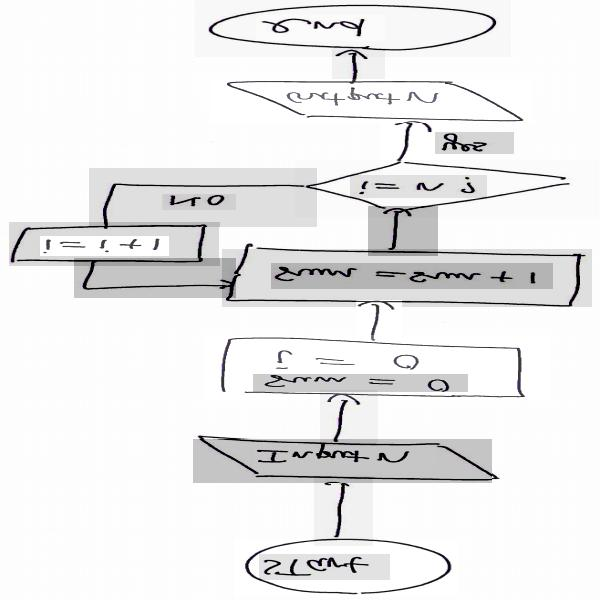arrow: (89, 168, 317, 227), (74, 258, 236, 298), (380, 114, 460, 170), (314, 475, 373, 546), (368, 206, 438, 256), (320, 390, 378, 445), (356, 300, 402, 340), (332, 48, 385, 79)
data: (212, 79, 533, 122), (195, 439, 492, 482)
decision: (295, 160, 599, 217)
process: (204, 335, 550, 401), (222, 249, 592, 307), (10, 222, 220, 266)
terminator: (195, 0, 511, 57), (235, 539, 458, 597)
text: (271, 263, 553, 289), (253, 447, 436, 469), (253, 374, 468, 392), (259, 554, 390, 580), (256, 14, 385, 40), (350, 175, 487, 198), (262, 351, 443, 367), (284, 88, 460, 104), (40, 236, 169, 256), (435, 132, 514, 153), (162, 194, 236, 210)
